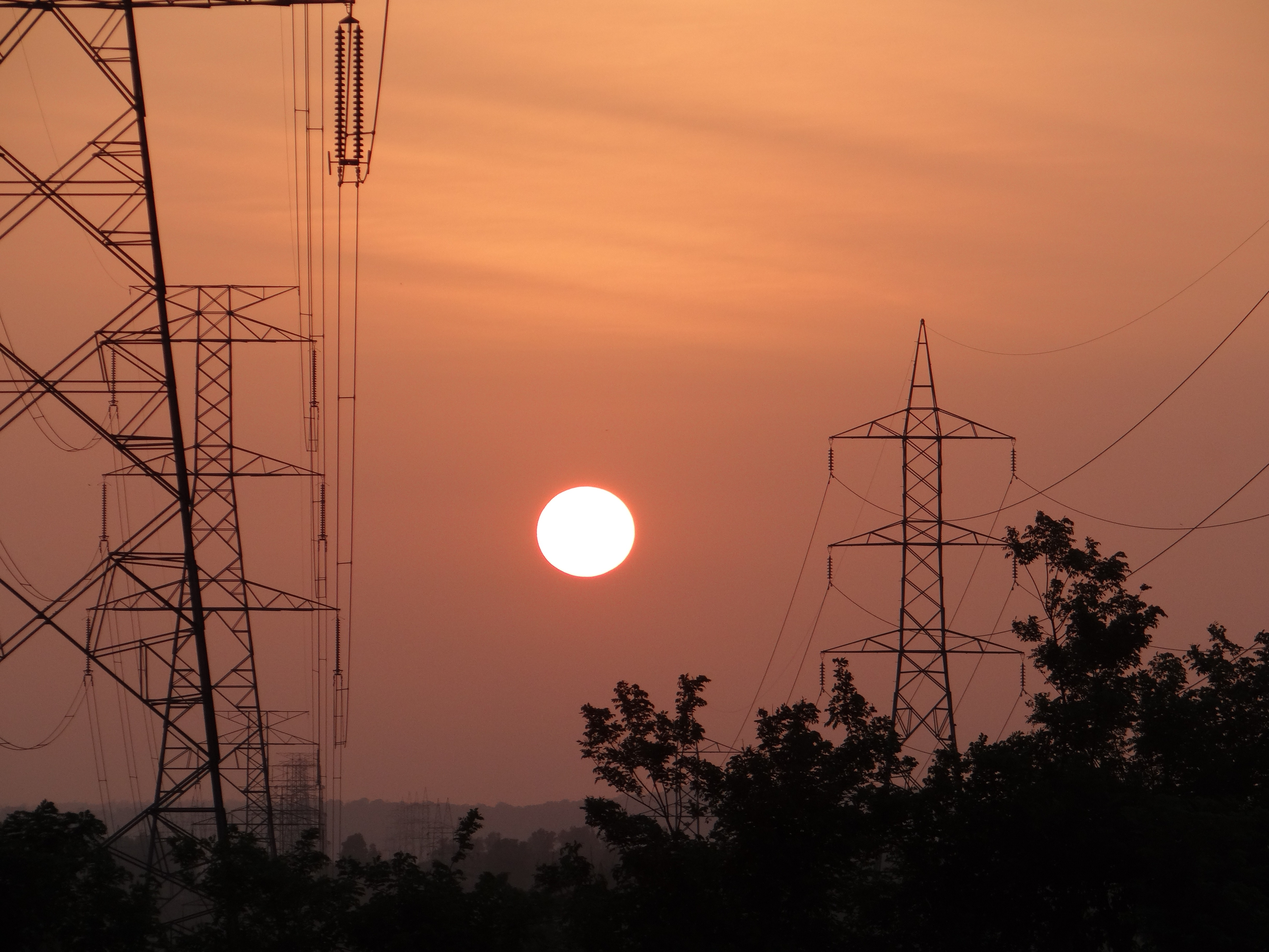insulator: (326, 11, 372, 179)
